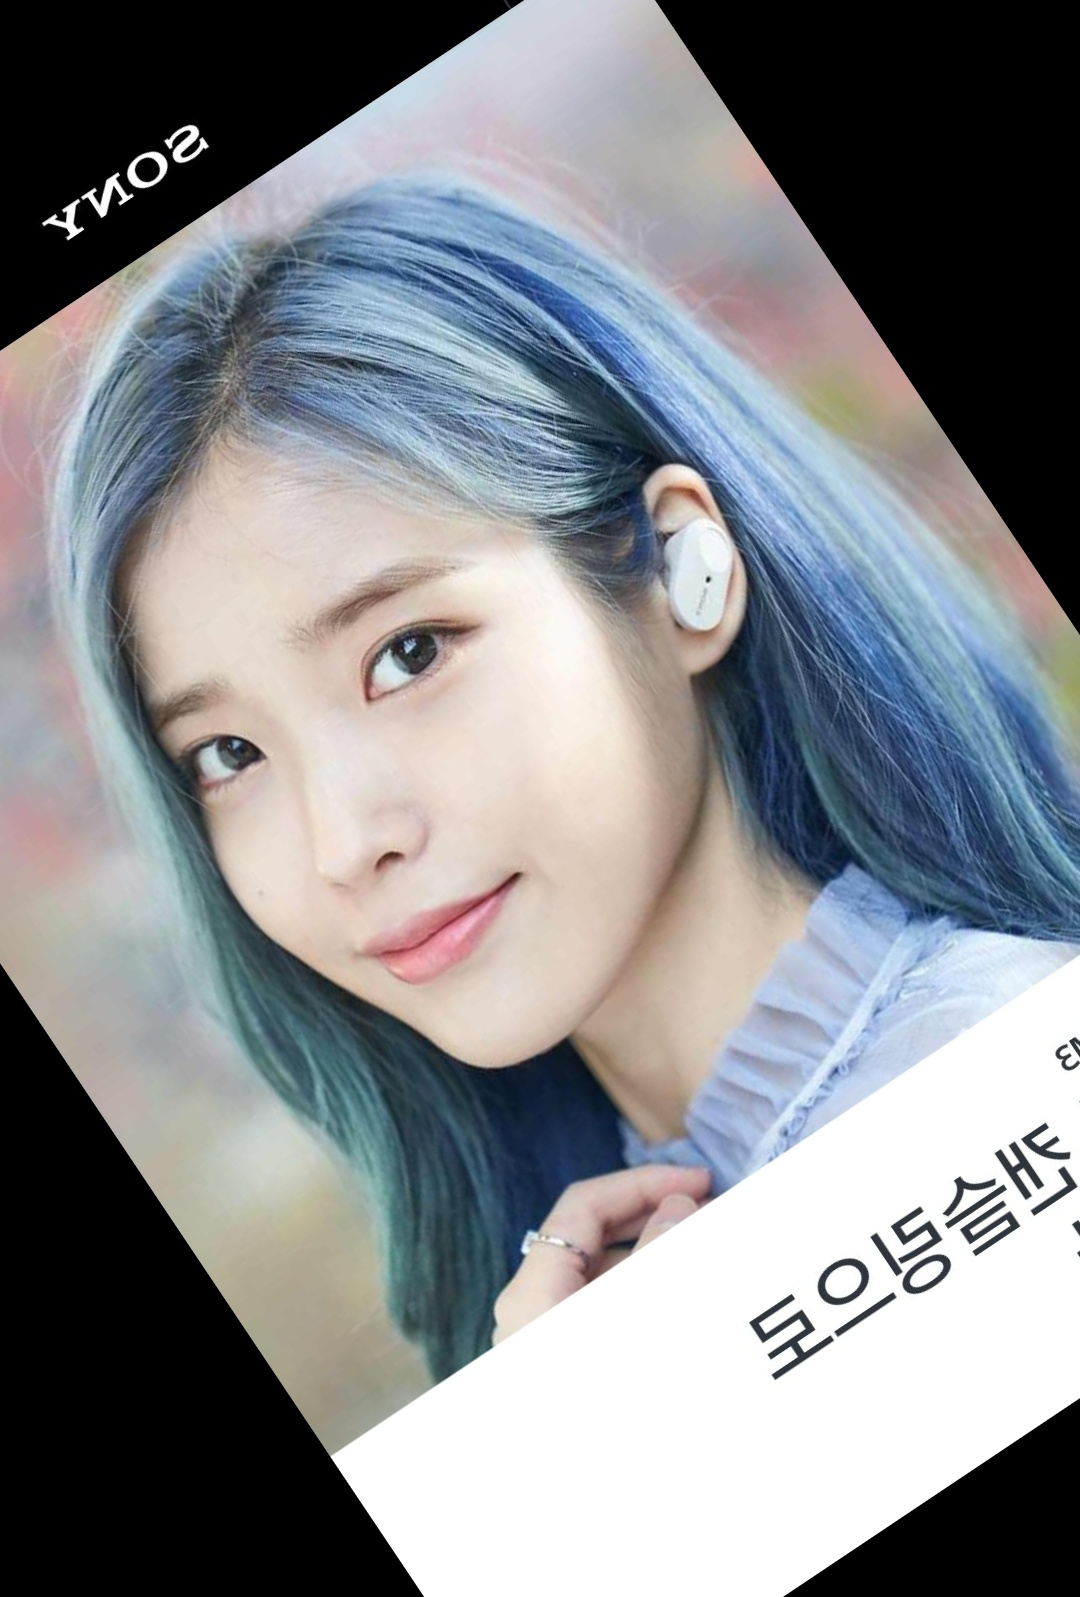earphone: (579, 451, 793, 683)
